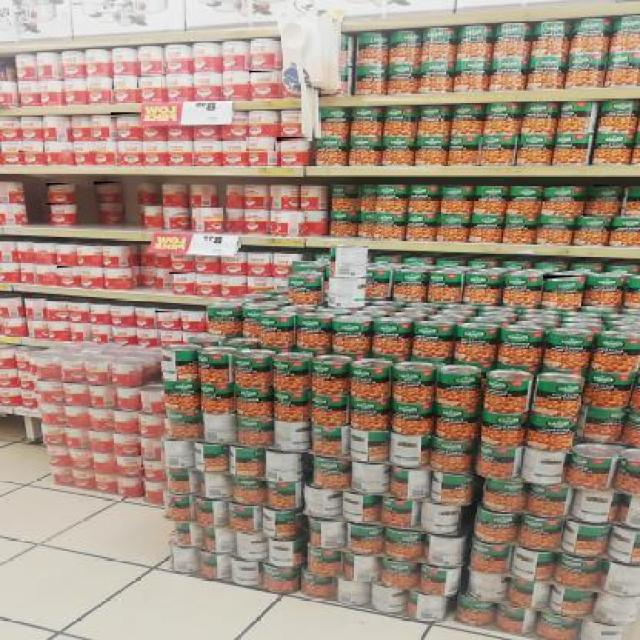Beans: (542, 275, 586, 294), (543, 186, 582, 205), (503, 186, 540, 205), (536, 215, 576, 232), (109, 112, 145, 128), (442, 186, 475, 202), (275, 137, 311, 151), (244, 138, 276, 153), (114, 138, 144, 154), (193, 208, 229, 221), (85, 75, 114, 91), (218, 138, 251, 152), (592, 185, 619, 202), (17, 138, 45, 154), (582, 215, 610, 231), (92, 182, 123, 196), (248, 70, 278, 84), (44, 203, 78, 215), (441, 214, 468, 229), (113, 433, 141, 447), (110, 76, 138, 90), (196, 138, 218, 154), (246, 252, 271, 266), (80, 360, 109, 372), (137, 76, 161, 90), (166, 140, 194, 152), (87, 142, 111, 156), (98, 203, 125, 215), (140, 140, 163, 154), (78, 266, 102, 279), (154, 310, 180, 322), (44, 183, 74, 192), (167, 273, 195, 282), (55, 266, 77, 277), (68, 303, 90, 314), (278, 114, 299, 125), (132, 309, 152, 320)
